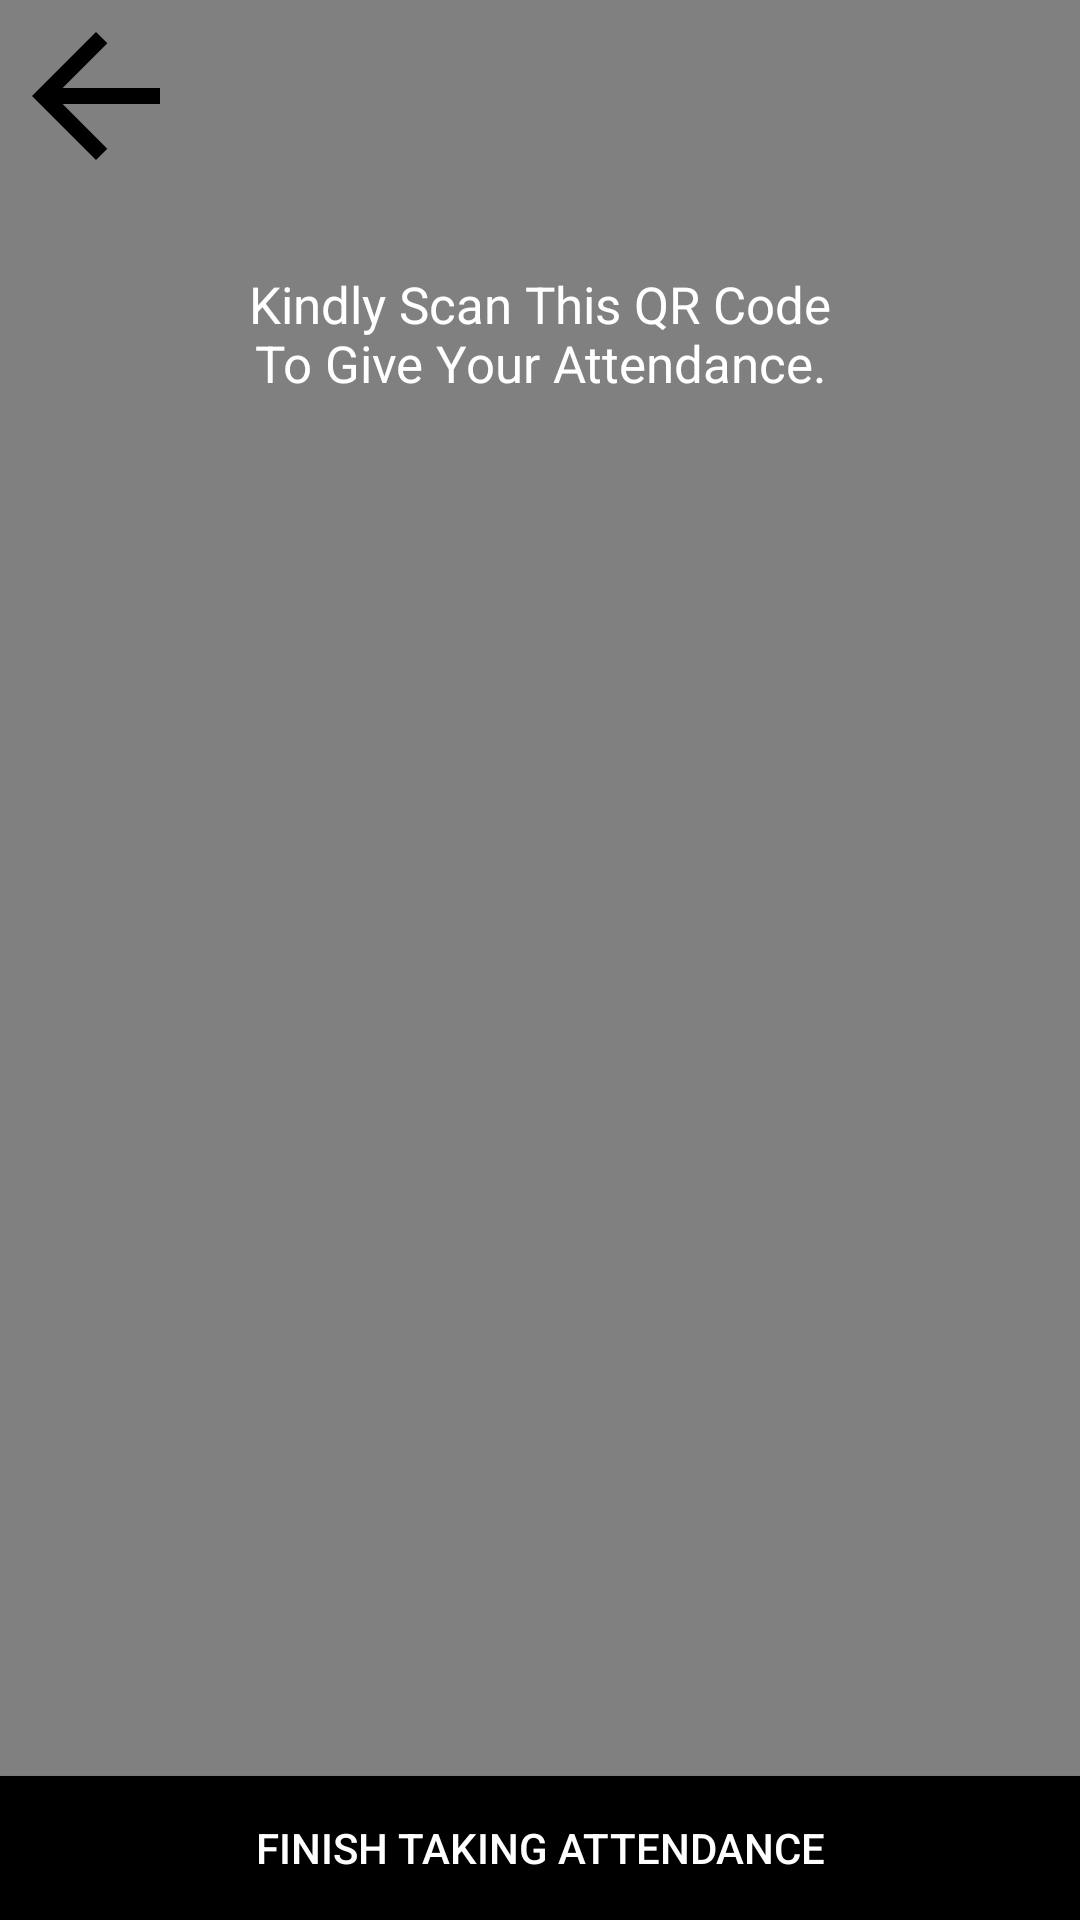

Icon bounding boxes for this 1080px x 1920px phone screenshot, format (x1, y1, x2, y2):
back: (32, 32, 160, 160)
